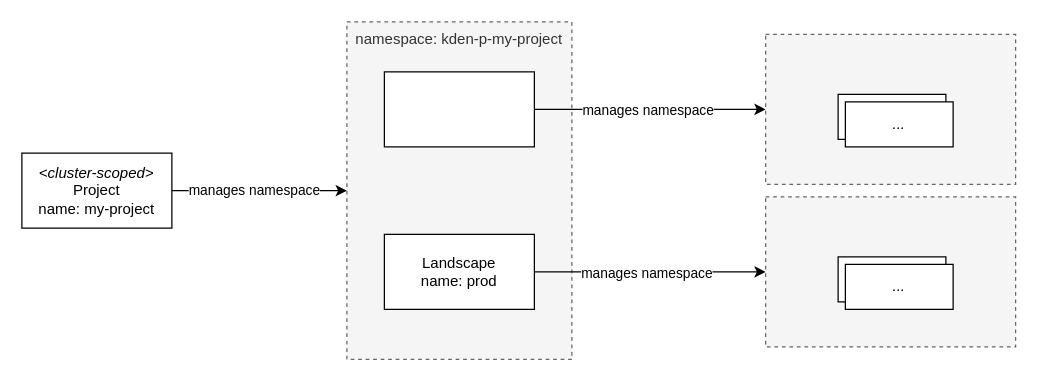
The diagram is 1038 pixels wide and 381 high, and some of its shapes have lost their labels. The shapes that lost their labels are listed below. From the top down, each one's box as (x1, y1, x2, y2) in pixels, then its label:
(383, 71, 534, 147): Landscape name: dev
(764, 33, 1016, 184): namespace: kden-l-dev-1blqhpe
(764, 196, 1016, 347): namespace: kden-l-prod-b8zy4q
